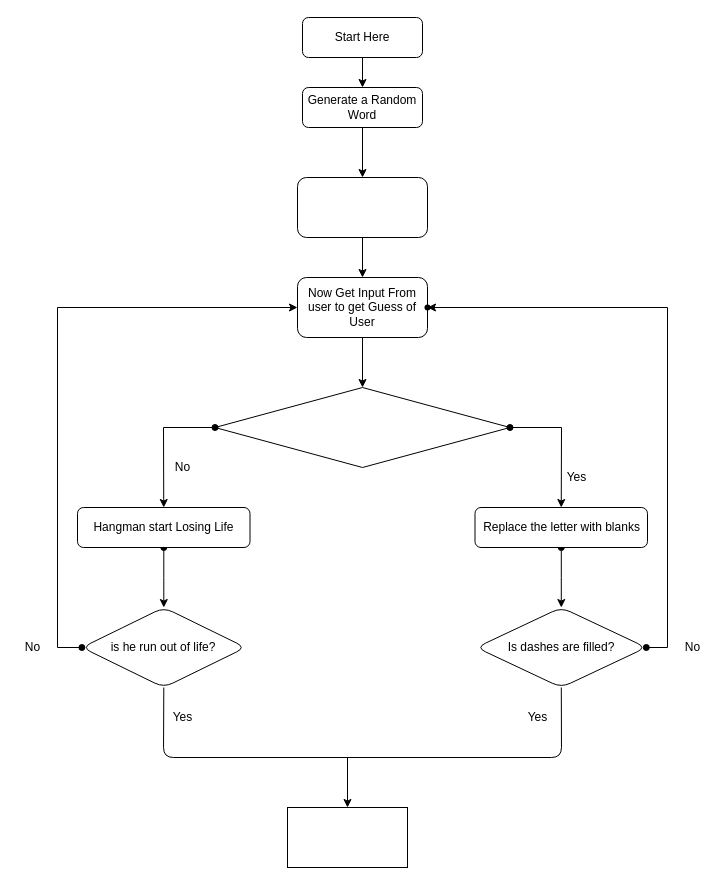
Image size: 724x885. Some labels were removed from this diagram. The shapes that lost their labels are listed below. From the top down, each one's centre as x and y in pixels, then its label:
At (x=362, y=207): "Generate Blanks for the Randomly Generated Word".
At (x=362, y=427): "Is user guess is in the world or not?".
At (x=347, y=837): "Game Over".
